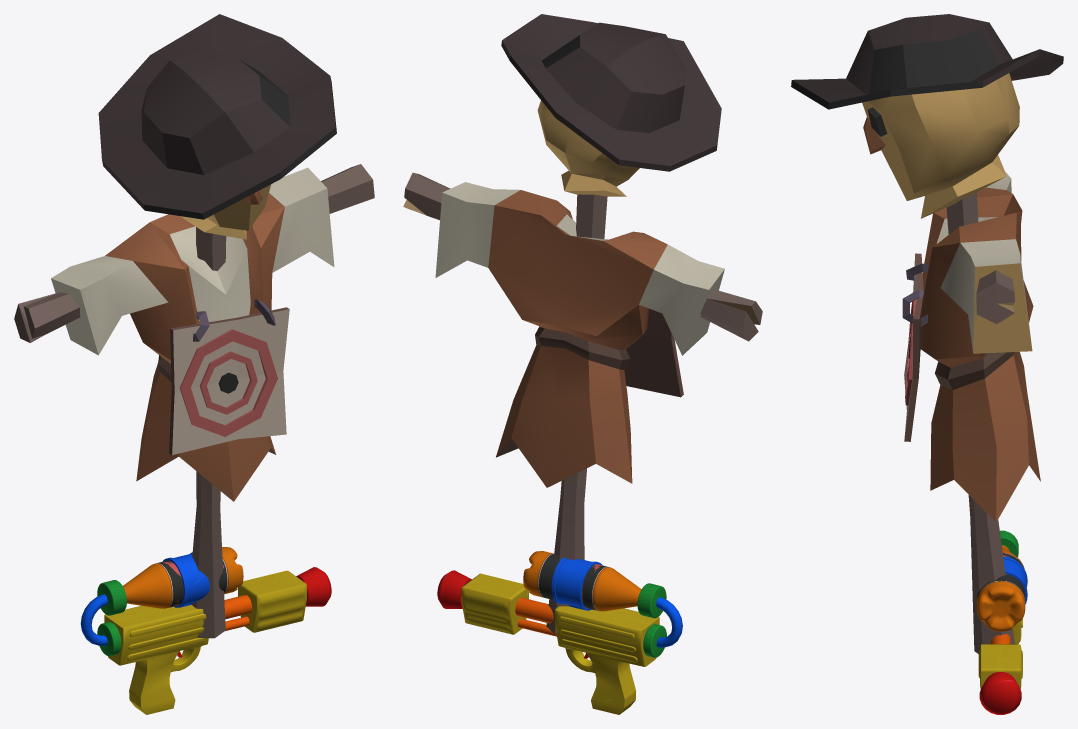
File: ScareCrow.fbx
The picture shows the model from 3 angles, left to right: view 1: azimuth 30°, elevation 25°; view 2: azimuth 150°, elevation 25°; view 3: azimuth 270°, elevation 25°; orthographic projection. The views are drawn at different scales.
Visible parts, largest first — view 1: ScareCrow, Object_2; view 2: ScareCrow, Object_2; view 3: ScareCrow, Object_2.
Part boxes in pixels (x1=…): ScareCrow: x1=14, y1=14, x2=374, y2=638; Object_2: x1=80, y1=547, x2=331, y2=714; ScareCrow: x1=403, y1=14, x2=762, y2=634; Object_2: x1=437, y1=551, x2=682, y2=714; ScareCrow: x1=791, y1=14, x2=1063, y2=653; Object_2: x1=977, y1=530, x2=1027, y2=714.
Size of the model in its own units: 50.12 by 91.14 by 32.66.
Materials: 4 (3 with a texture image).
